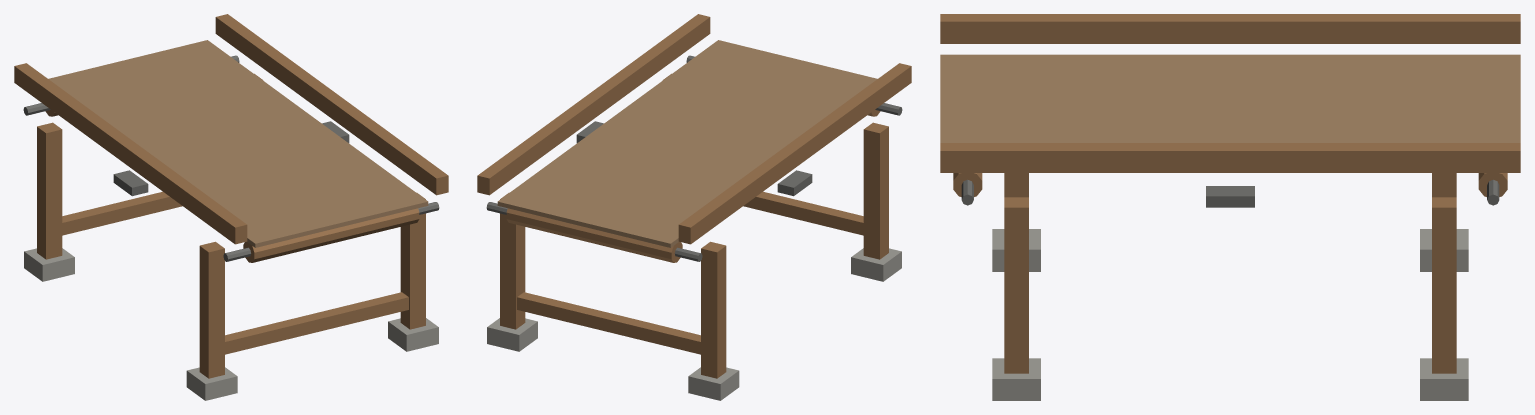
Rendered from vf_conveyor_2m.glb.
3 renders of one model, left to right at view 1: azimuth 30°, elevation 25°; view 2: azimuth 150°, elevation 25°; view 3: azimuth 270°, elevation 25°, orthographic. The views are drawn at different scales.
Visible parts, largest first — view 1: Belt_Surface_Hide, Static_Oak, Static_Stone, Roller_0.86_Oak, Static_Iron, Roller_0.86_Iron; view 2: Belt_Surface_Hide, Static_Oak, Static_Stone, Roller_-0.86_Oak, Static_Iron, Roller_-0.86_Iron; view 3: Belt_Surface_Hide, Static_Oak, Static_Stone, Static_Iron.
Boxes of the visible parts, x1=… form: Belt_Surface_Hide: x1=48, y1=40, x2=428, y2=247; Static_Oak: x1=14, y1=14, x2=448, y2=378; Static_Stone: x1=24, y1=248, x2=438, y2=400; Roller_0.86_Oak: x1=243, y1=208, x2=419, y2=262; Static_Iron: x1=113, y1=121, x2=349, y2=196; Roller_0.86_Iron: x1=223, y1=202, x2=439, y2=261; Belt_Surface_Hide: x1=497, y1=40, x2=877, y2=247; Static_Oak: x1=477, y1=14, x2=911, y2=378; Static_Stone: x1=487, y1=248, x2=901, y2=400; Roller_-0.86_Oak: x1=506, y1=208, x2=682, y2=262; Static_Iron: x1=576, y1=121, x2=812, y2=196; Roller_-0.86_Iron: x1=486, y1=202, x2=702, y2=261; Belt_Surface_Hide: x1=940, y1=54, x2=1520, y2=142; Static_Oak: x1=940, y1=14, x2=1520, y2=373; Static_Stone: x1=992, y1=229, x2=1468, y2=400; Static_Iron: x1=1206, y1=186, x2=1254, y2=207.
Bounding box in the file's own units: 1.16 × 0.88 × 1.9.
